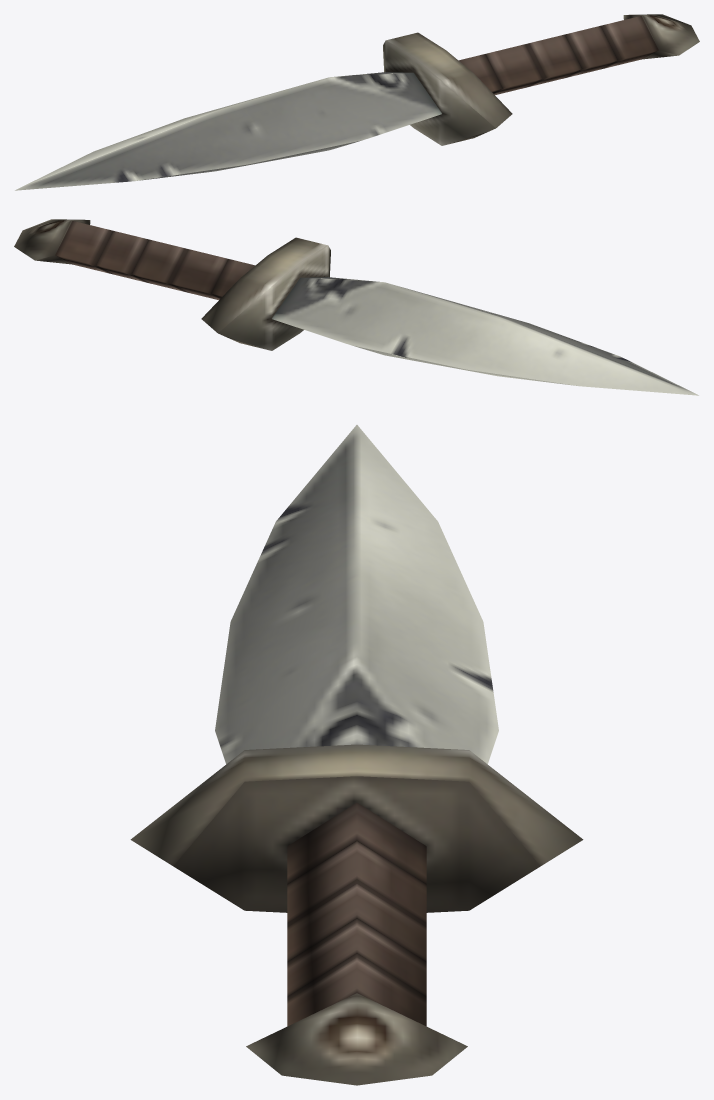
File: wp_dagger01.FBX
3 views of the same model, one above another, from view 1: azimuth 30°, elevation 25°; view 2: azimuth 150°, elevation 25°; view 3: azimuth 270°, elevation 25° (orthographic). The views are drawn at different scales.
Visible parts, largest first — view 1: wp_dagger01; view 2: wp_dagger01; view 3: wp_dagger01.
Boxes of the visible parts, x1=… form: wp_dagger01: x1=15, y1=14, x2=699, y2=190; wp_dagger01: x1=14, y1=219, x2=698, y2=395; wp_dagger01: x1=130, y1=425, x2=583, y2=1085.
Size of the model in its own units: 169 by 17.42 by 48.89.
